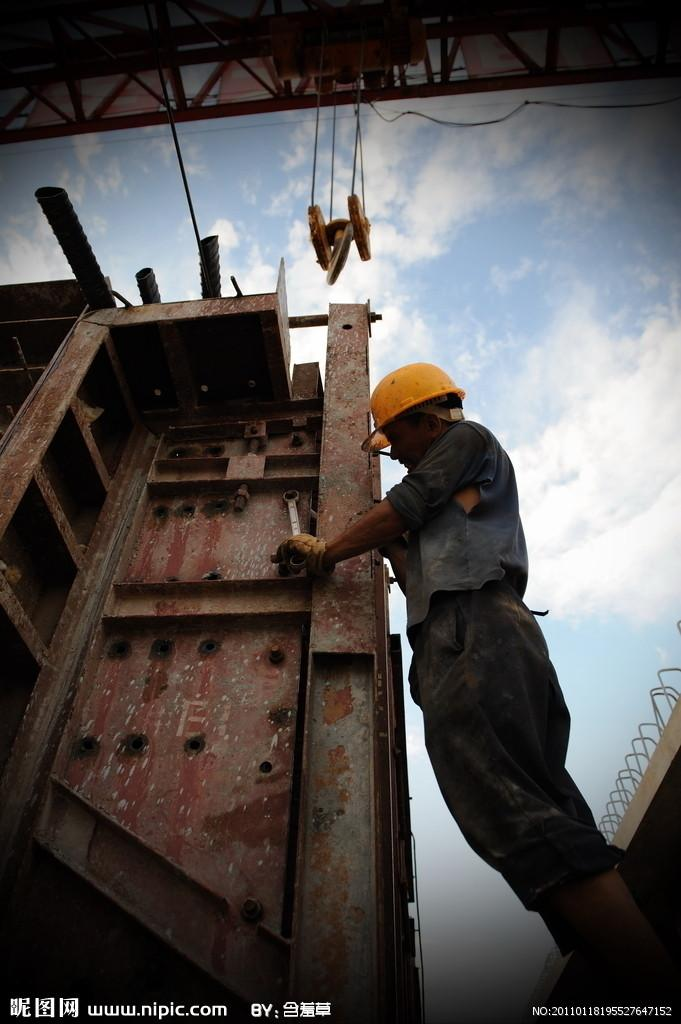helmet: (373, 365, 466, 439)
